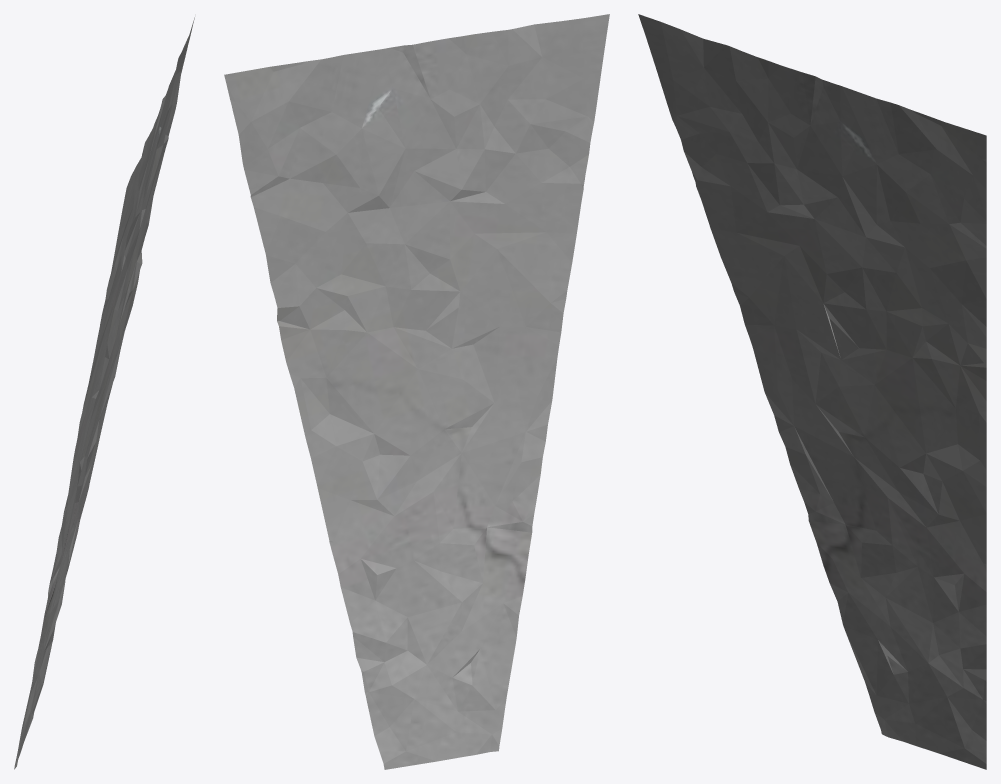
3 views of the same model, side by side, from view 1: azimuth 30°, elevation 25°; view 2: azimuth 150°, elevation 25°; view 3: azimuth 270°, elevation 25° (orthographic). The views are drawn at different scales.
Bounding box in the file's own units: 0.3033 × 0.8374 × 0.3673.
Materials: 1 (1 with a texture image).
